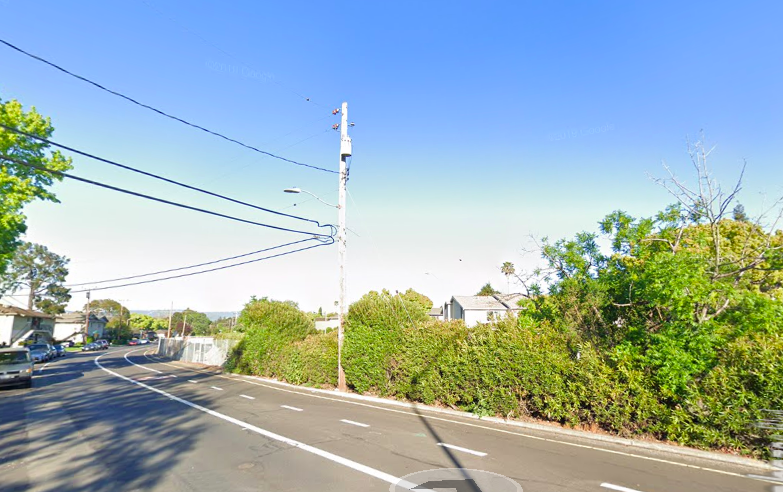utility_pole: (318, 91, 363, 189)
